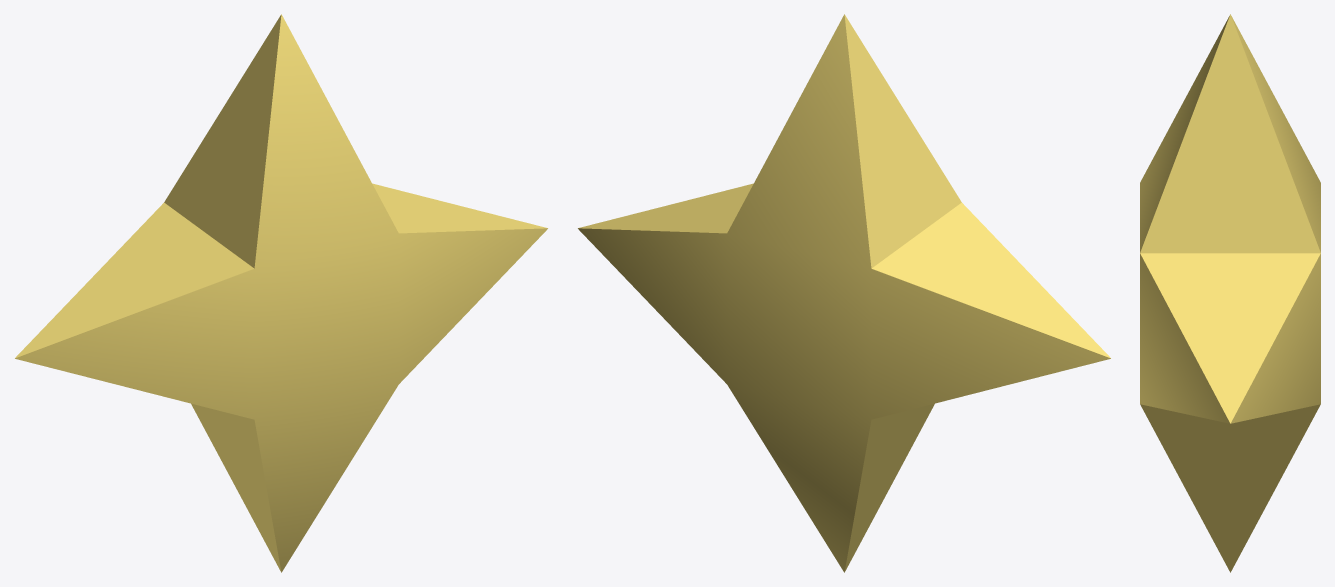
Rendered from Firefly.fbx.
The picture shows the model from 3 angles, left to right: view 1: azimuth 30°, elevation 25°; view 2: azimuth 150°, elevation 25°; view 3: azimuth 270°, elevation 25°; orthographic projection.
Parts seen in each view (by area): view 1: Firefly; view 2: Firefly; view 3: Firefly.
Boxes of the visible parts, x1=… form: Firefly: x1=15, y1=14, x2=547, y2=572; Firefly: x1=578, y1=14, x2=1110, y2=572; Firefly: x1=1140, y1=14, x2=1320, y2=572.
Bounding box in the file's own units: 0.387 × 0.387 × 0.1135.
